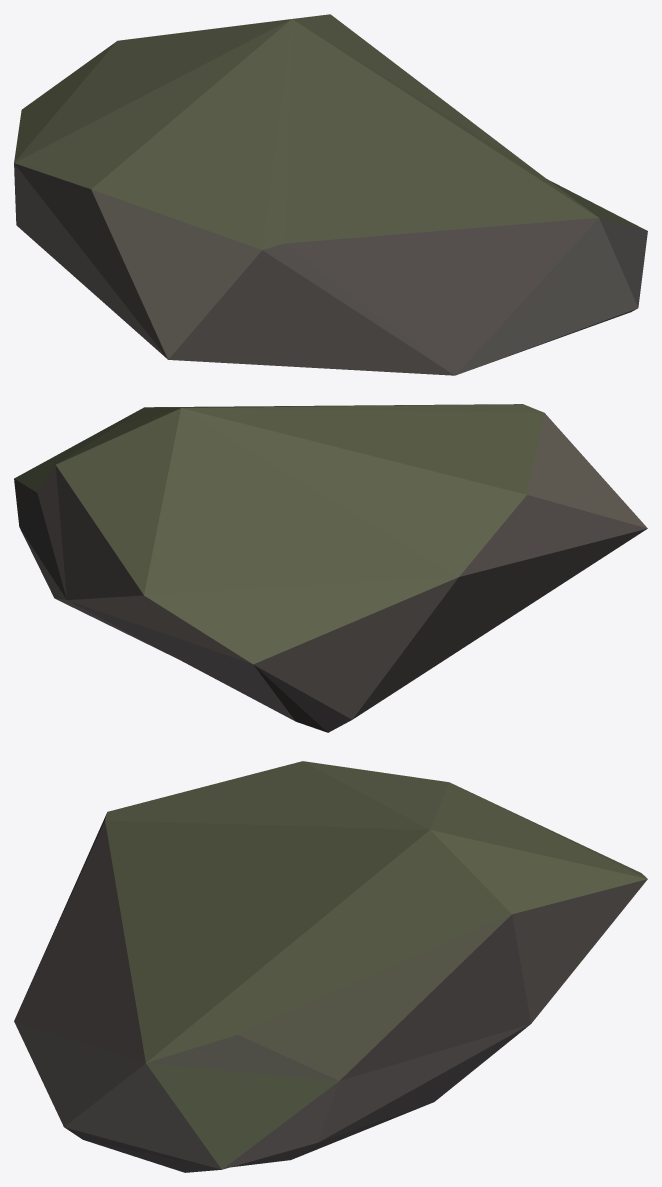
Rendered from boulder_small.glb.
3 views of the same model, one above another, from view 1: azimuth 30°, elevation 25°; view 2: azimuth 150°, elevation 25°; view 3: azimuth 270°, elevation 25° (orthographic). The views are drawn at different scales.
Parts seen in each view (by area): view 1: boulder_small; view 2: boulder_small; view 3: boulder_small.
Part boxes in pixels (x1,y1,x2,y2): boulder_small: [14, 14, 647, 375]; boulder_small: [14, 404, 647, 732]; boulder_small: [14, 761, 647, 1172].
Bounding box in the file's own units: 0.8417 × 0.3584 × 0.828.
